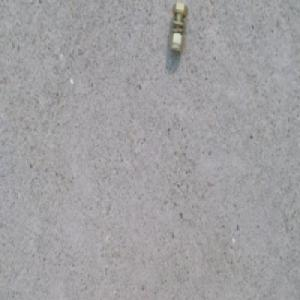BoltNutSet: (166, 3, 190, 53)
